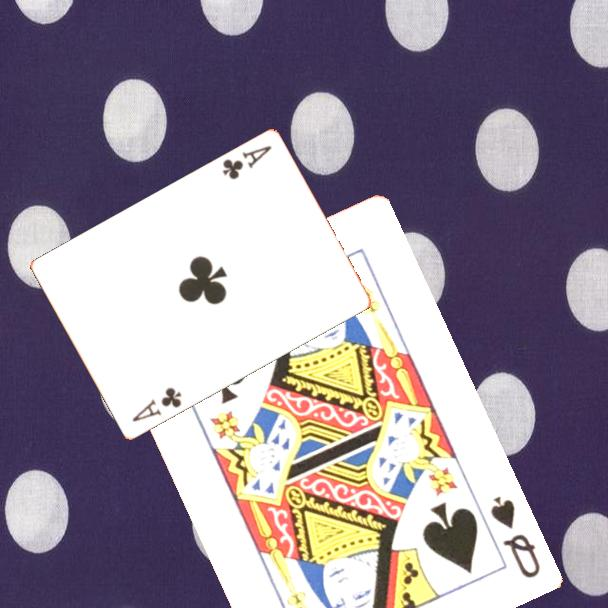c01: (128, 384, 184, 425), (219, 142, 274, 183)
s12: (486, 492, 543, 581)
